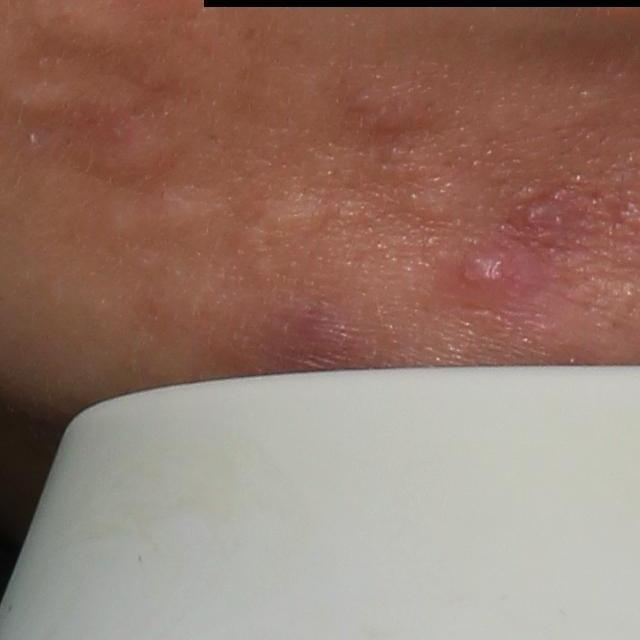hypertrophic_scar: (348, 77, 445, 138), (249, 192, 331, 249), (152, 189, 215, 243), (94, 197, 140, 247), (403, 186, 465, 223)
papule: (458, 252, 511, 288)
